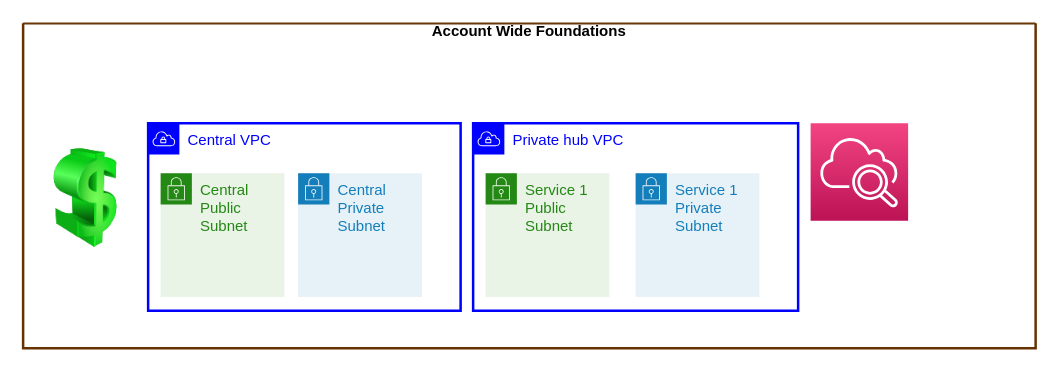
The diagram is 1058 pixels wide and 370 high, and some of its shapes have lost their labels. Here are the shapes that lost their labels. From the top down, the centre of each, then its label:
[858,171]: CloudWatch log group
[85,198]: Account Budget
